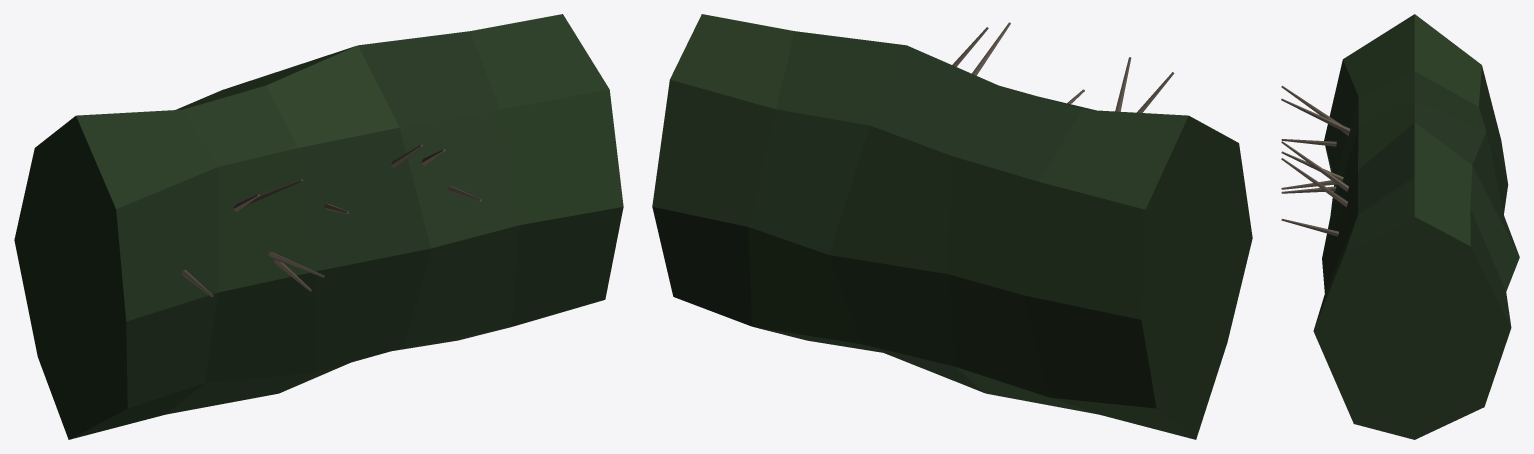
File: hedge_wall.glb
The picture shows the model from 3 angles, left to right: view 1: azimuth 30°, elevation 25°; view 2: azimuth 150°, elevation 25°; view 3: azimuth 270°, elevation 25°; orthographic projection. The views are drawn at different scales.
Parts seen in each view (by area): view 1: hedge_wall; view 2: hedge_wall; view 3: hedge_wall.
Boxes of the visible parts, bbox=[...] form: hedge_wall: bbox=[14, 14, 623, 439]; hedge_wall: bbox=[652, 14, 1252, 439]; hedge_wall: bbox=[1281, 14, 1519, 439].
Bounding box in the file's own units: 4.47 × 2.82 × 2.33.
1 material, 1 textured.
